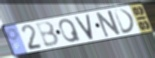2: (21, 24, 45, 51)
B: (35, 20, 62, 49)
D: (112, 8, 137, 36)
N: (95, 8, 123, 39)
Q: (58, 18, 82, 44)
V: (73, 13, 95, 41)
